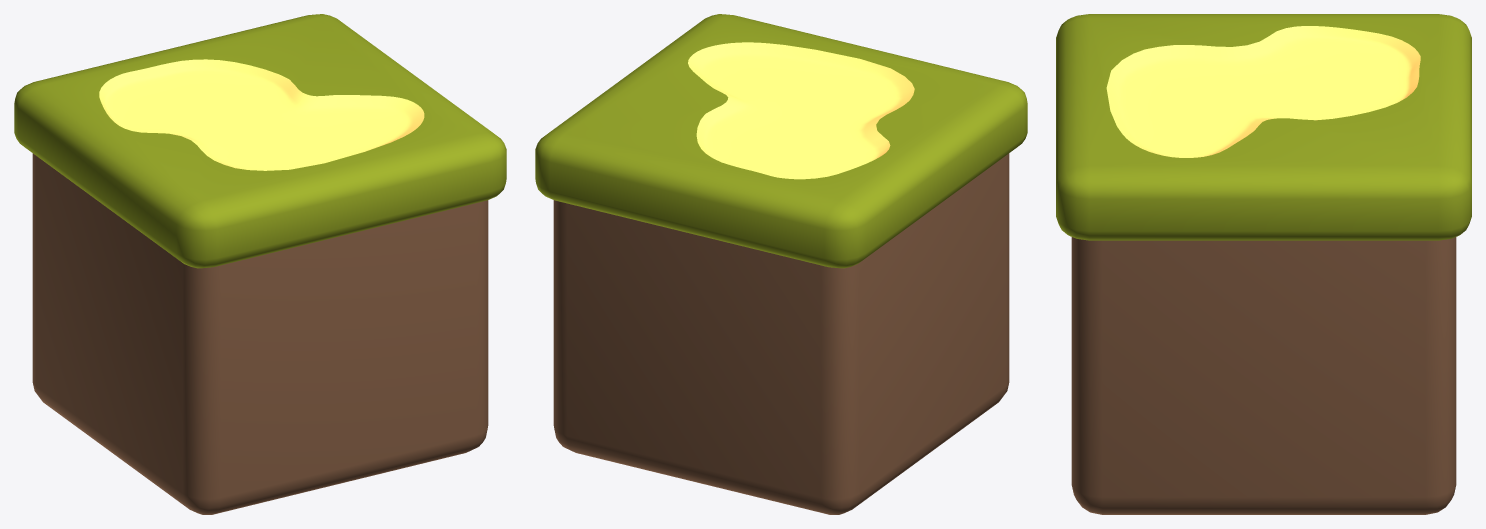
3 views of the same model, side by side, from view 1: azimuth 30°, elevation 25°; view 2: azimuth 150°, elevation 25°; view 3: azimuth 270°, elevation 25° (orthographic). The views are drawn at different scales.
Parts seen in each view (by area): view 1: Cube.028, Cube.086; view 2: Cube.028, Cube.086; view 3: Cube.028, Cube.086.
Boxes of the visible parts, box(x1,y1,x2,y2) form: Cube.028: box(32, 153, 488, 514); Cube.086: box(14, 14, 506, 268); Cube.028: box(553, 153, 1009, 514); Cube.086: box(535, 14, 1027, 268); Cube.028: box(1071, 237, 1456, 514); Cube.086: box(1056, 14, 1471, 240).
Size of the model in its own units: 216 by 202 by 216.
